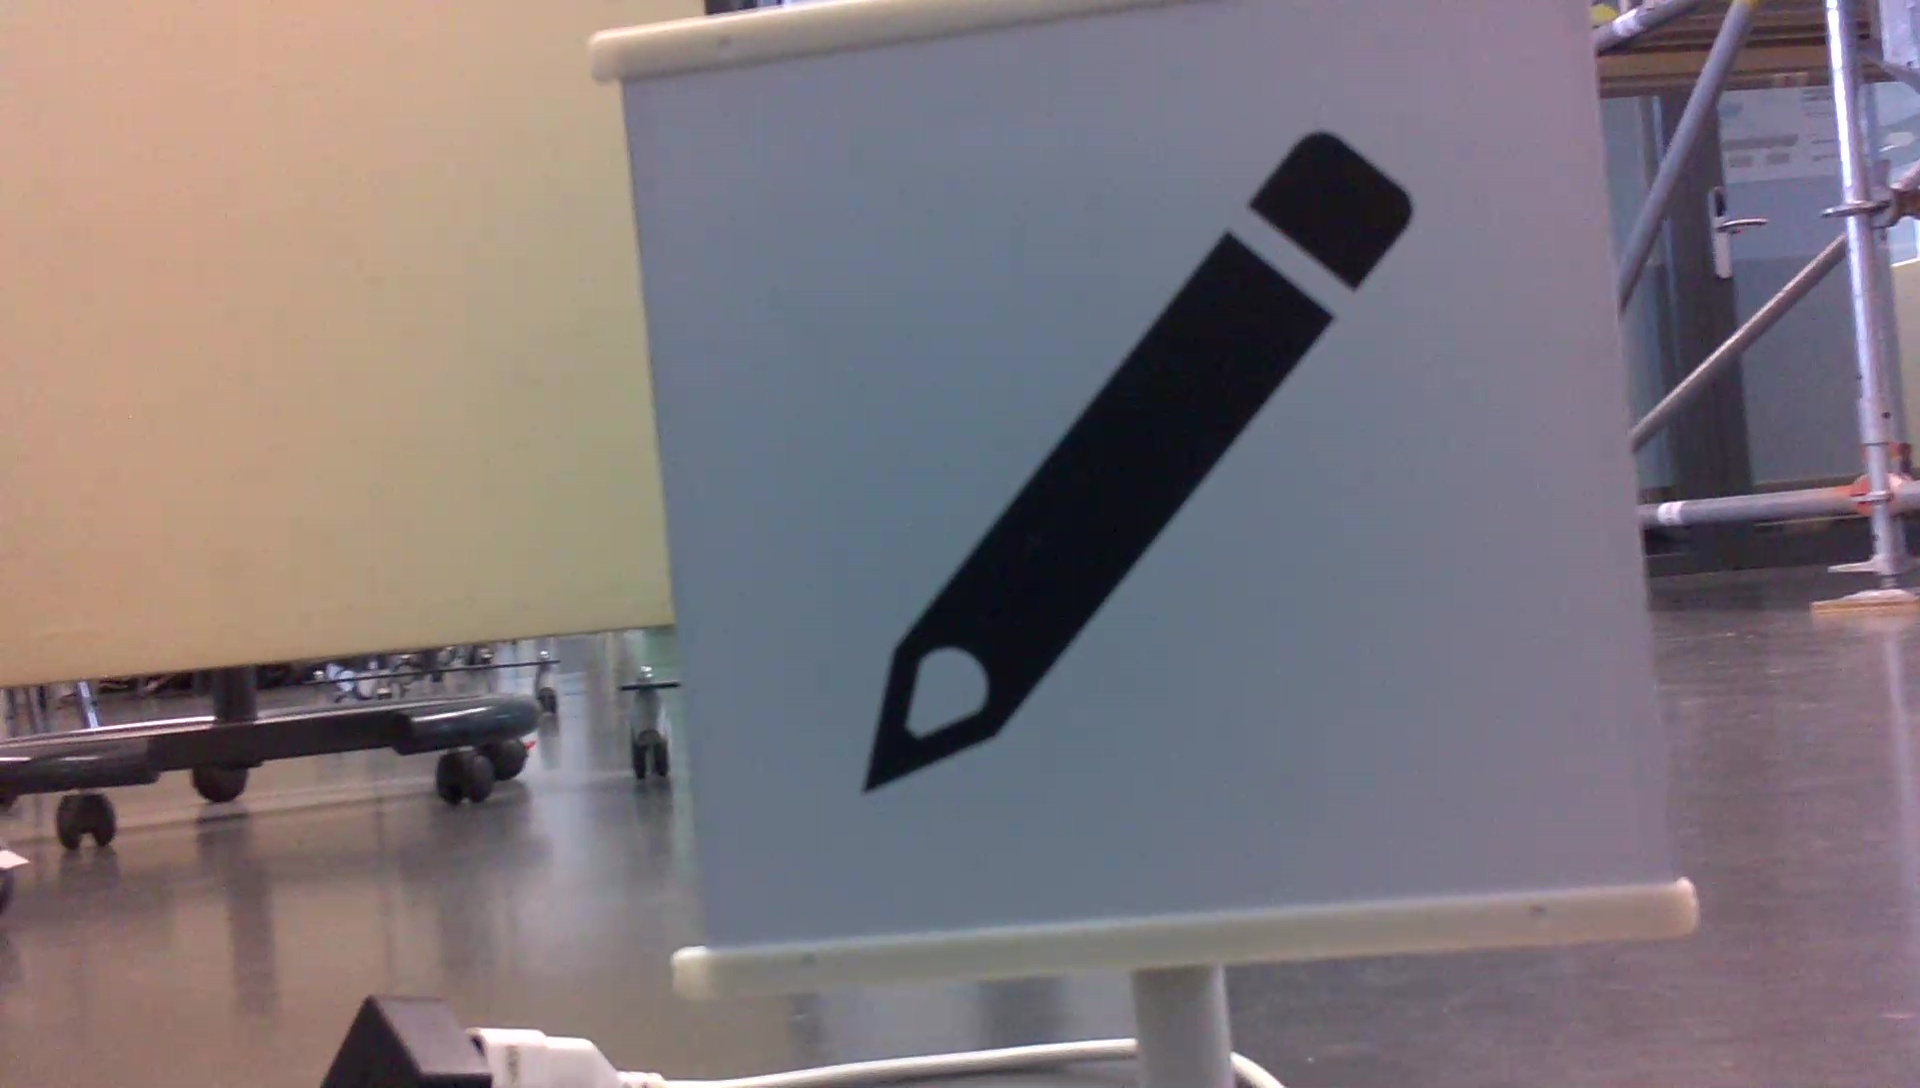pencil: (829, 109, 1437, 810)
